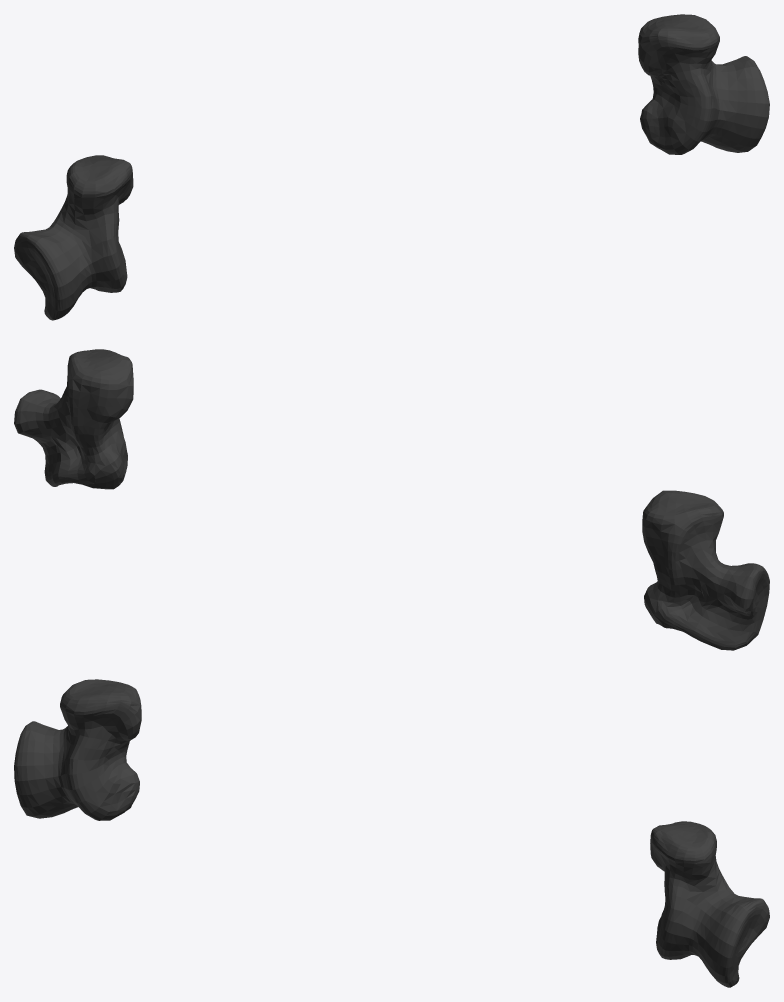
Rendered from Tarsal_talus_1.glb.
3 renders of one model, top to bottom at view 1: azimuth 30°, elevation 25°; view 2: azimuth 150°, elevation 25°; view 3: azimuth 330°, elevation 25°, orthographic.
Visible parts, largest first — view 1: Tarsal_talus_1; view 2: Tarsal_talus_1; view 3: Tarsal_talus_1.
Boxes of the visible parts, left/top/right/bottom form: Tarsal_talus_1: left=14, top=14, right=769, bottom=320; Tarsal_talus_1: left=14, top=349, right=769, bottom=650; Tarsal_talus_1: left=14, top=679, right=769, bottom=987.
Bounding box in the file's own units: 0.00541 × 0.000986 × 0.000556.
Materials: 1 (1 with a texture image).
